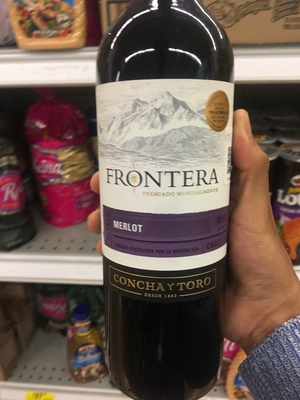frontera merlot: (94, 6, 237, 400)
